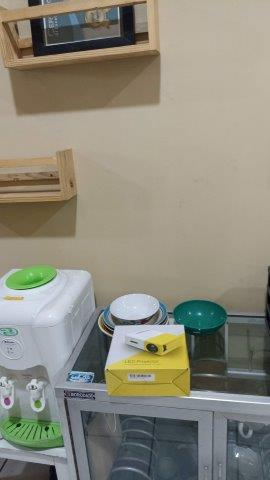kardus: (105, 325, 189, 396)
